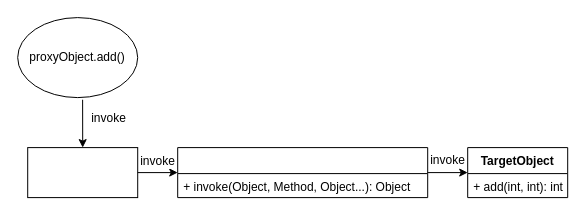
This 585x218 diagram has some shape labels left out. Each missing label, with the box of its shape:
$Proxy: (27, 147, 138, 198)
InvocationHandlerImpl: (177, 147, 428, 198)
